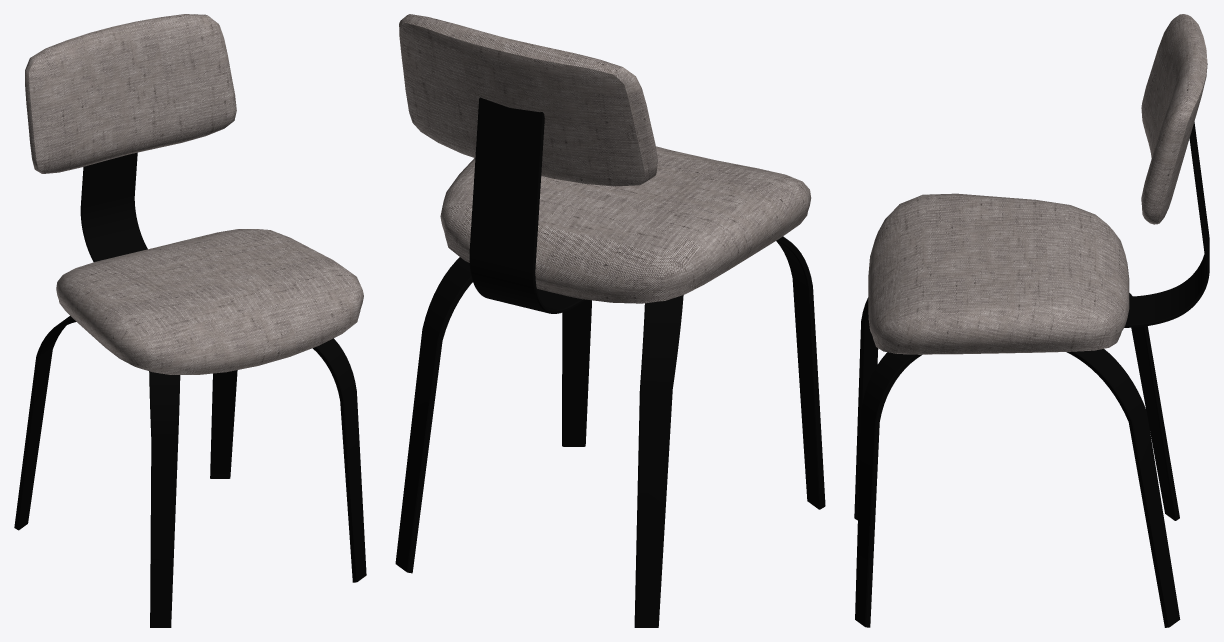
The model's file is CGT_Chair_009.glb.
3 renders of one model, left to right at view 1: azimuth 30°, elevation 25°; view 2: azimuth 150°, elevation 25°; view 3: azimuth 270°, elevation 25°, orthographic. The views are drawn at different scales.
Visible parts, largest first — view 1: CGT_Chair_009; view 2: CGT_Chair_009; view 3: CGT_Chair_009.
Boxes of the visible parts, x1,y1,x2,y2 form: CGT_Chair_009: (14, 14, 366, 627); CGT_Chair_009: (395, 14, 825, 627); CGT_Chair_009: (854, 14, 1209, 627).
Size of the model in its own units: 0.4324 by 0.7864 by 0.489.
Materials: 2 (1 with a texture image).
